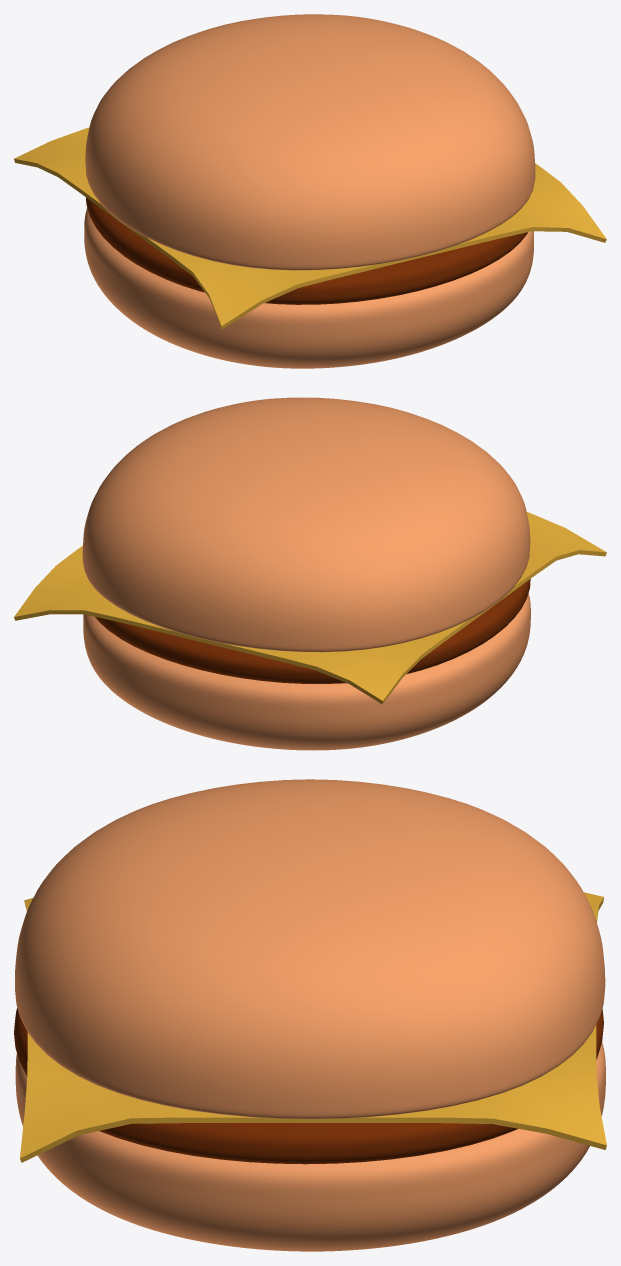
File: hamburger.glb
3 views of the same model, one above another, from view 1: azimuth 30°, elevation 25°; view 2: azimuth 150°, elevation 25°; view 3: azimuth 270°, elevation 25° (orthographic). The views are drawn at different scales.
Parts seen in each view (by area): view 1: Cube.002, Cube.001, Plane, Cube; view 2: Cube.002, Cube.001, Plane, Cube; view 3: Cube.002, Cube.001, Plane, Cube.
Part boxes in pixels (<box>): Cube.002: <box>85,14,535,270</box>; Cube.001: <box>84,208,533,368</box>; Plane: <box>14,127,606,329</box>; Cube: <box>86,197,527,304</box>; Cube.002: <box>82,397,530,652</box>; Cube.001: <box>83,593,530,750</box>; Plane: <box>14,512,606,704</box>; Cube: <box>95,579,530,683</box>; Cube.002: <box>15,779,605,1119</box>; Cube.001: <box>15,1041,605,1251</box>; Plane: <box>20,892,606,1162</box>; Cube: <box>14,1008,603,1164</box>.
Bounding box in the file's own units: 9.28 × 5.78 × 9.21.
